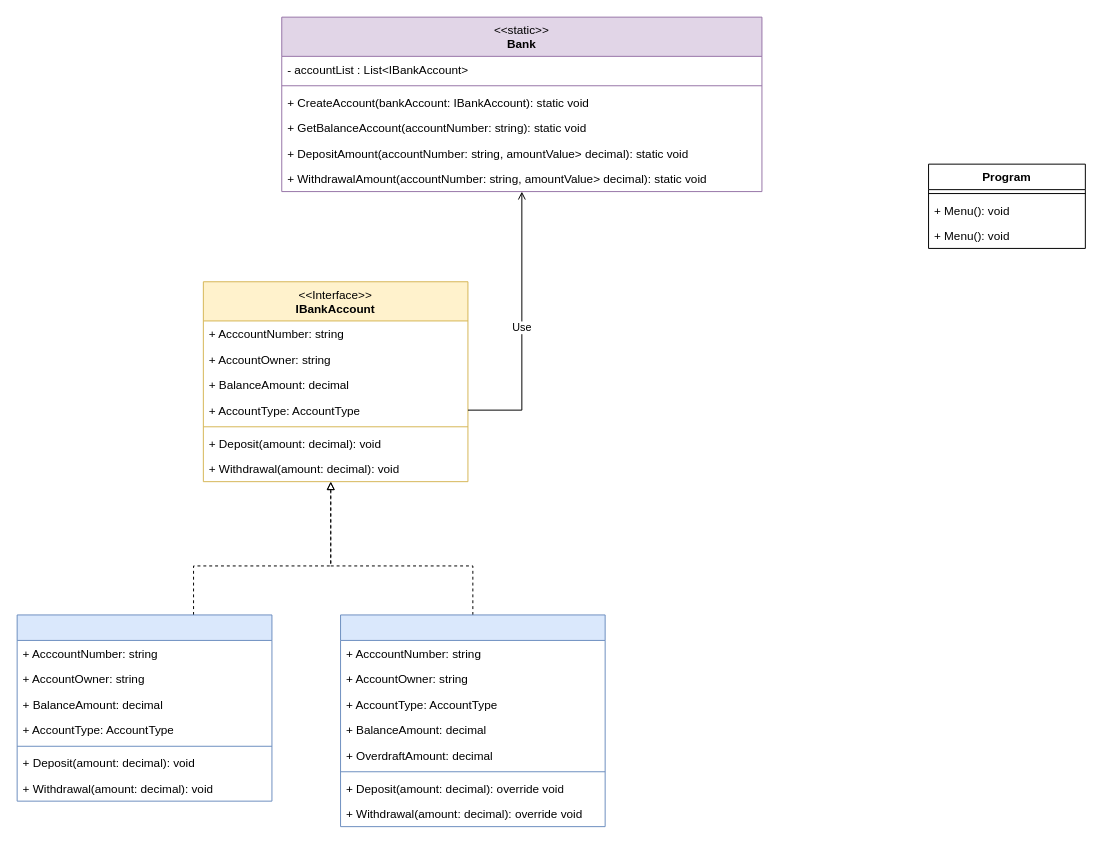
Image size: 1103x847. Some labels were removed from this diagram. Here are the shapes that lost their labels. From the top down, the box of each, then its label:
(16, 614, 272, 801): SavingAccount
(340, 614, 605, 827): CheckingAccount
